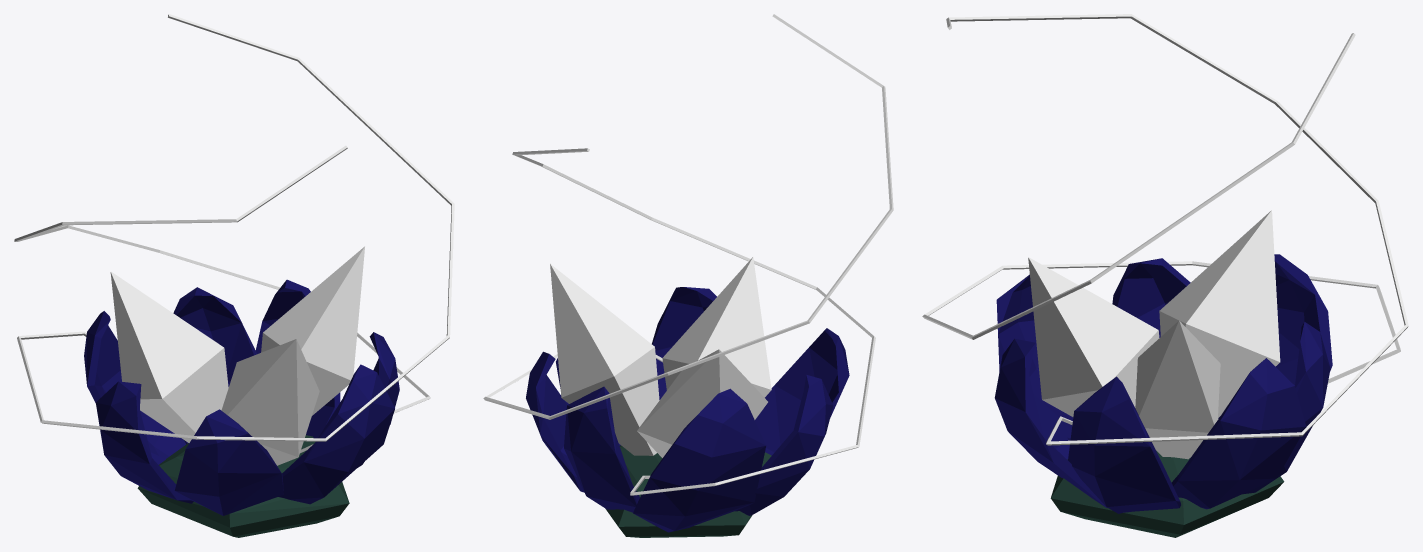
File: flor2 - fazer de várias cores.fbx
The picture shows the model from 3 angles, left to right: view 1: azimuth 30°, elevation 25°; view 2: azimuth 150°, elevation 25°; view 3: azimuth 270°, elevation 25°; orthographic projection. The views are drawn at different scales.
Parts seen in each view (by area): view 1: planta 1, flor.002, vinha (?), base 2; view 2: planta 1, flor.002, vinha (?), base 2; view 3: planta 1, flor.002, vinha (?), base 2.
Boxes of the visible parts, <box> form: planta 1: <box>84,279,399,515</box>; flor.002: <box>110,246,364,465</box>; vinha (?): <box>14,14,454,453</box>; base 2: <box>137,435,349,537</box>; planta 1: <box>526,287,849,532</box>; flor.002: <box>550,257,771,457</box>; vinha (?): <box>483,14,893,495</box>; base 2: <box>605,445,771,537</box>; planta 1: <box>994,254,1332,513</box>; flor.002: <box>1028,210,1280,459</box>; vinha (?): <box>922,14,1408,445</box>; base 2: <box>1050,450,1284,537</box>.
Size of the model in its own units: 1883 by 2126 by 1915.
